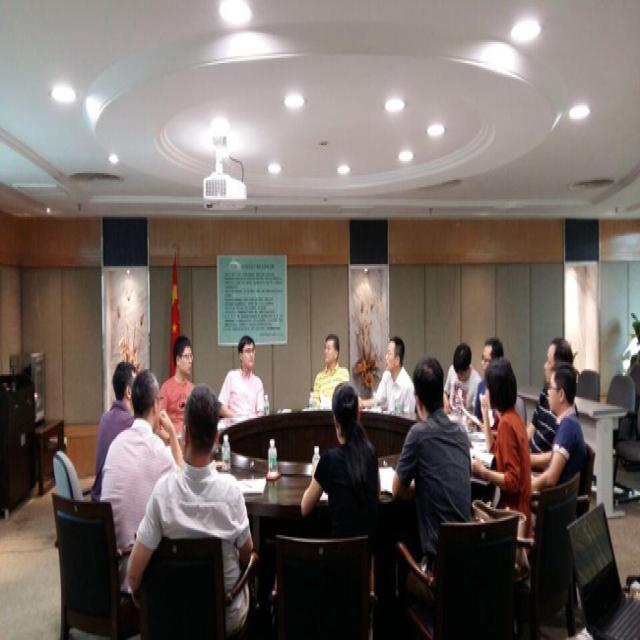body: (124, 381, 255, 638), (299, 380, 384, 608), (99, 367, 185, 588), (391, 353, 473, 574), (469, 355, 534, 572), (528, 360, 585, 520), (88, 358, 140, 504), (526, 336, 575, 476), (153, 332, 199, 450), (358, 334, 418, 420), (216, 330, 266, 420), (465, 334, 506, 434), (441, 341, 485, 430), (312, 330, 352, 408), (598, 313, 622, 376)
